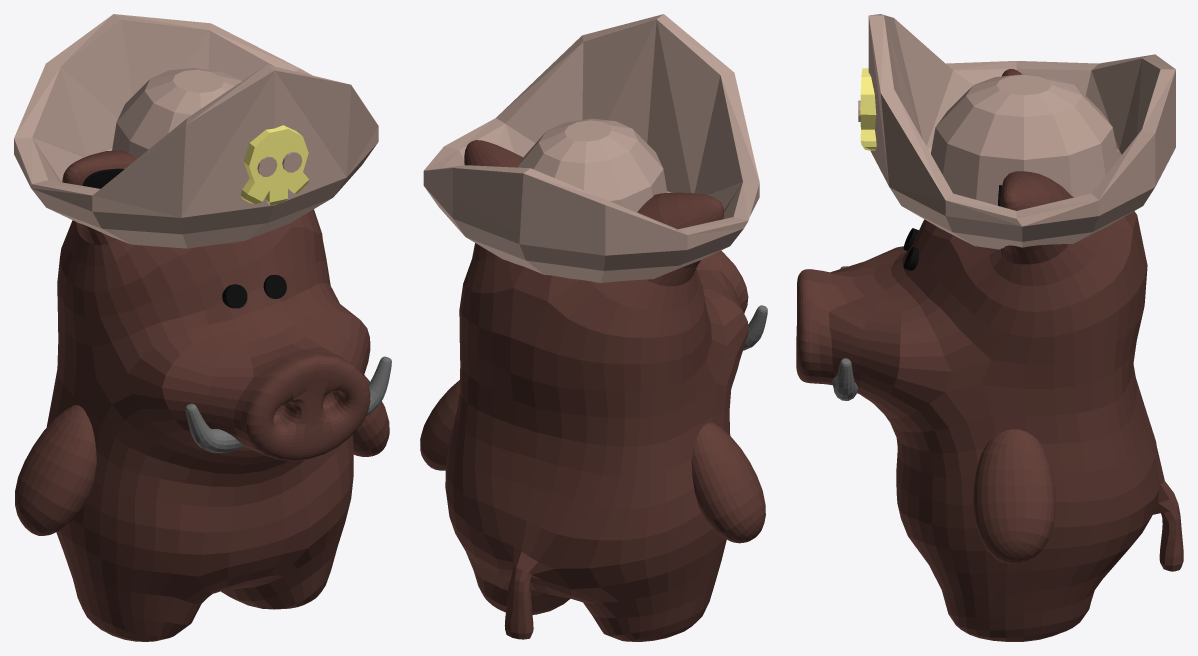
Rendered from tuskbeard.fbx.
The picture shows the model from 3 angles, left to right: view 1: azimuth 30°, elevation 25°; view 2: azimuth 150°, elevation 25°; view 3: azimuth 270°, elevation 25°; orthographic projection. The views are drawn at different scales.
Visible parts, largest first — view 1: Boar Body, mu8; view 2: Boar Body, mu8; view 3: Boar Body, mu8.
Part boxes in pixels (x1,y1,x2,y2): Boar Body: (15,150,391,641); mu8: (14,14,378,248); Boar Body: (420,140,767,641); mu8: (423,14,759,282); Boar Body: (796,69,1183,641); mu8: (858,14,1175,249).
Bounding box in the file's own units: 123 × 192 × 115.
